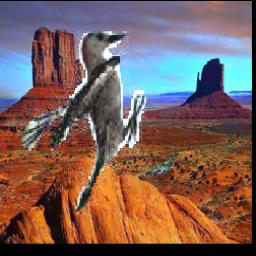Woodpecker: (16, 31, 146, 215)
